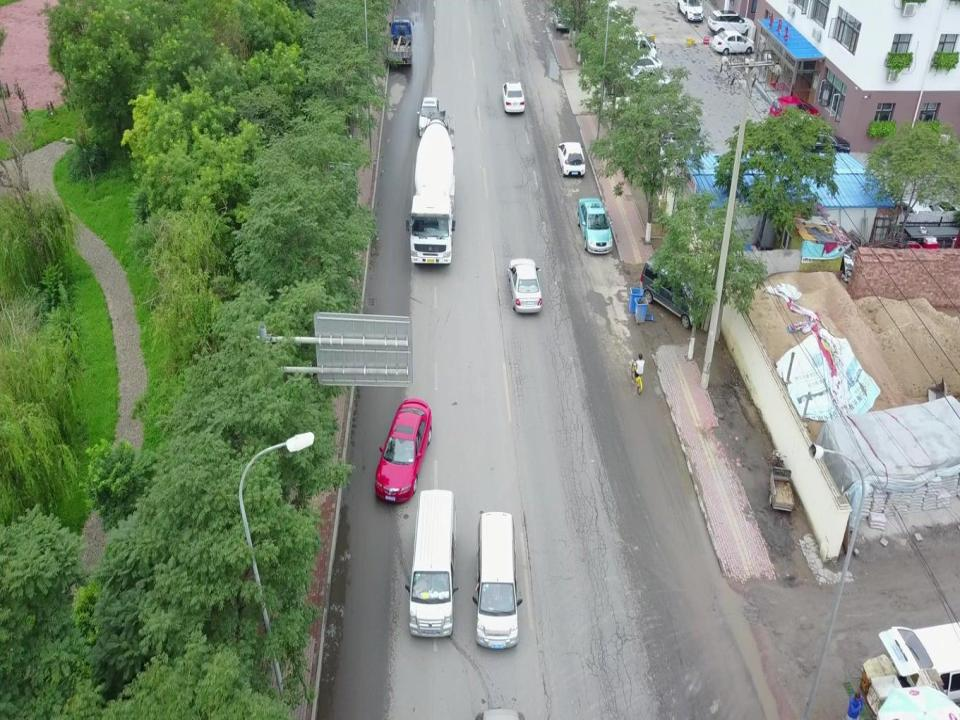car: (574, 197, 615, 257), (768, 93, 820, 134), (792, 129, 850, 165), (890, 196, 933, 233), (621, 64, 664, 95), (712, 28, 756, 58), (707, 8, 753, 36), (556, 140, 588, 180), (417, 94, 444, 140), (499, 79, 527, 117), (621, 54, 662, 77), (928, 196, 959, 221), (676, 0, 705, 22), (550, 2, 572, 31)
truck: (386, 15, 416, 73)
van: (869, 614, 960, 710), (404, 489, 460, 639), (368, 394, 435, 507), (472, 510, 523, 651), (638, 250, 710, 330), (505, 256, 545, 316), (613, 28, 657, 62)
